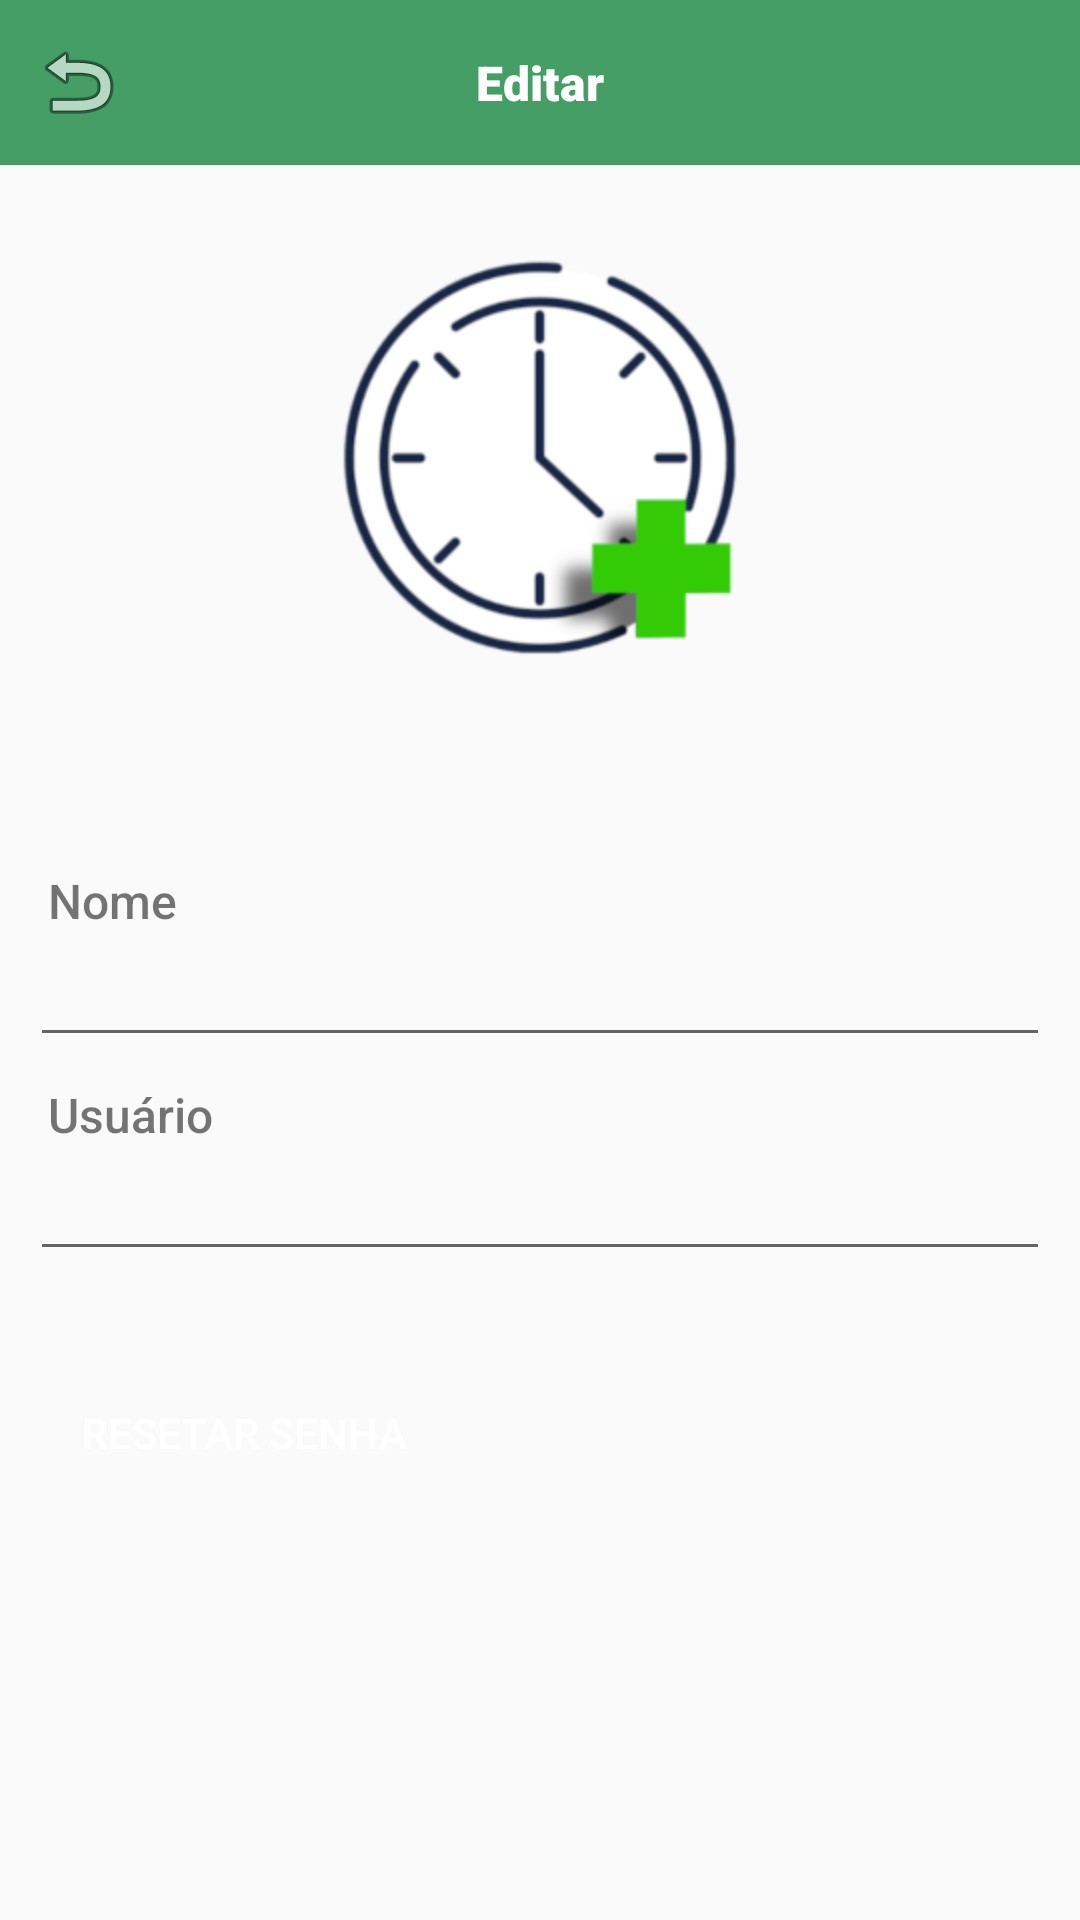

Screen size 1080×1920. Icon name, then its center in pixels as (x,y):
revert: (79,83)
